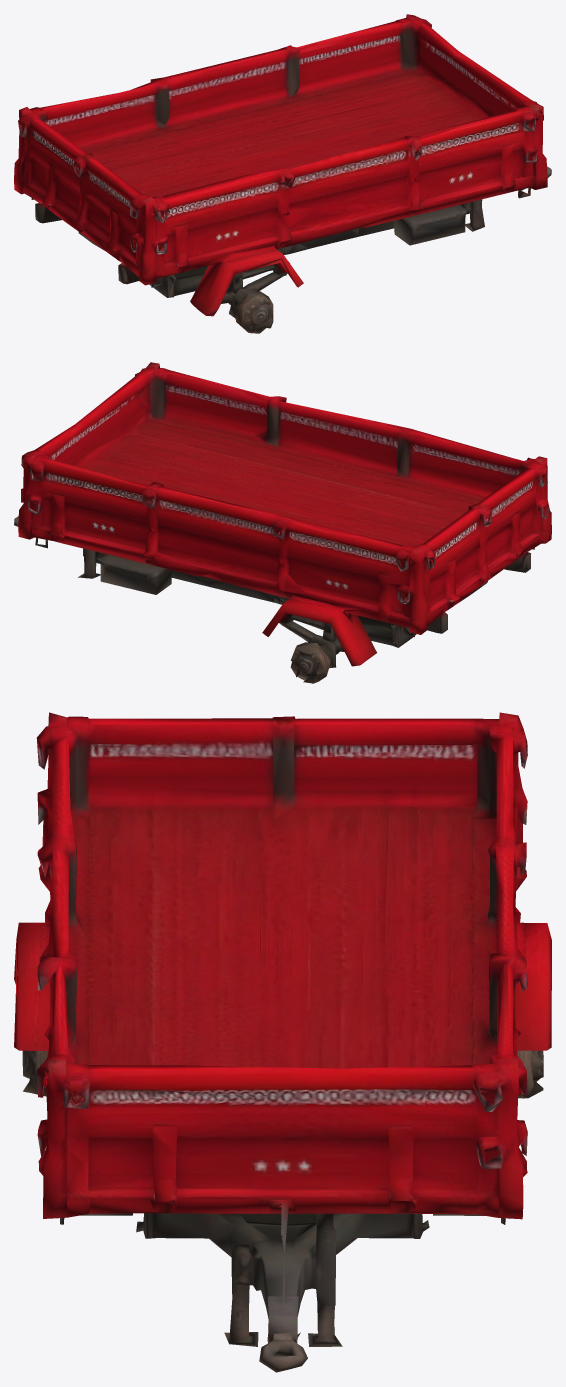
The model's file is romork-tripo.glb.
3 views of the same model, one above another, from view 1: azimuth 30°, elevation 25°; view 2: azimuth 150°, elevation 25°; view 3: azimuth 270°, elevation 25° (orthographic). The views are drawn at different scales.
Visible parts, largest first — view 1: tripo_node_cfb1a636-3baa-474c-b69c-1a87a2ea60de; view 2: tripo_node_cfb1a636-3baa-474c-b69c-1a87a2ea60de; view 3: tripo_node_cfb1a636-3baa-474c-b69c-1a87a2ea60de.
Part boxes in pixels (x1,y1,x2,y2): tripo_node_cfb1a636-3baa-474c-b69c-1a87a2ea60de: (14,14,551,333); tripo_node_cfb1a636-3baa-474c-b69c-1a87a2ea60de: (14,362,551,683); tripo_node_cfb1a636-3baa-474c-b69c-1a87a2ea60de: (14,712,551,1372).
Size of the model in its own units: 0.9797 by 0.3077 by 0.5241.
1 material, 1 textured.
